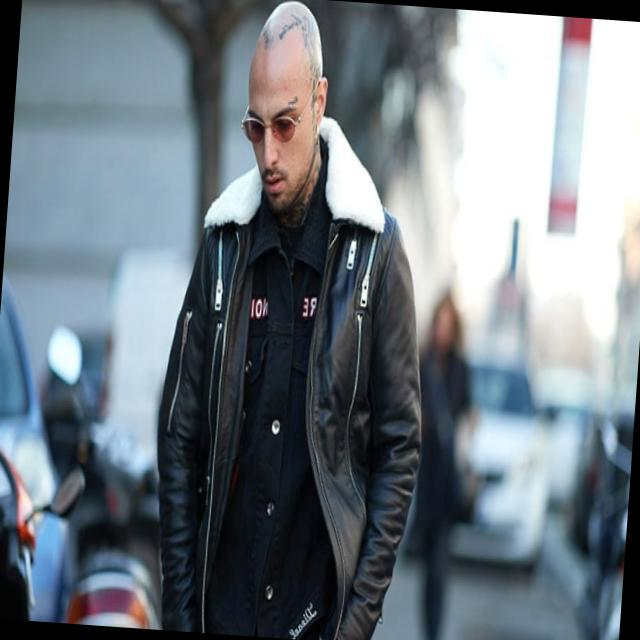Jacket: (136, 175, 448, 640)
